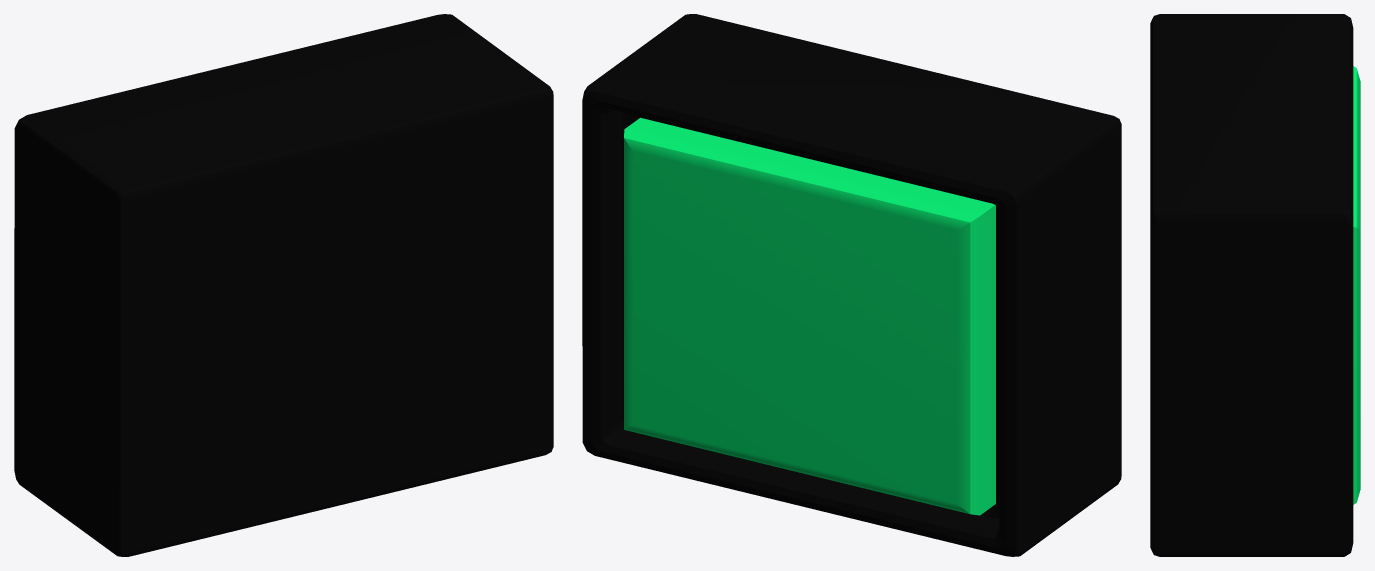
The model's file is rectangle press butoon.fbx.
3 renders of one model, left to right at view 1: azimuth 30°, elevation 25°; view 2: azimuth 150°, elevation 25°; view 3: azimuth 270°, elevation 25°, orthographic. The views are drawn at different scales.
Parts seen in each view (by area): view 1: polySurface18917; view 2: polySurface18917, polySurface18916; view 3: polySurface18917, polySurface18916.
Boxes of the visible parts, box(x1,y1,x2,y2) form: polySurface18917: box(14, 14, 553, 556); polySurface18917: box(582, 14, 1121, 556); polySurface18916: box(624, 117, 995, 515); polySurface18917: box(1150, 14, 1353, 556); polySurface18916: box(1353, 66, 1360, 504).
Size of the model in its own units: 0.1976 by 0.1588 by 0.0869.
